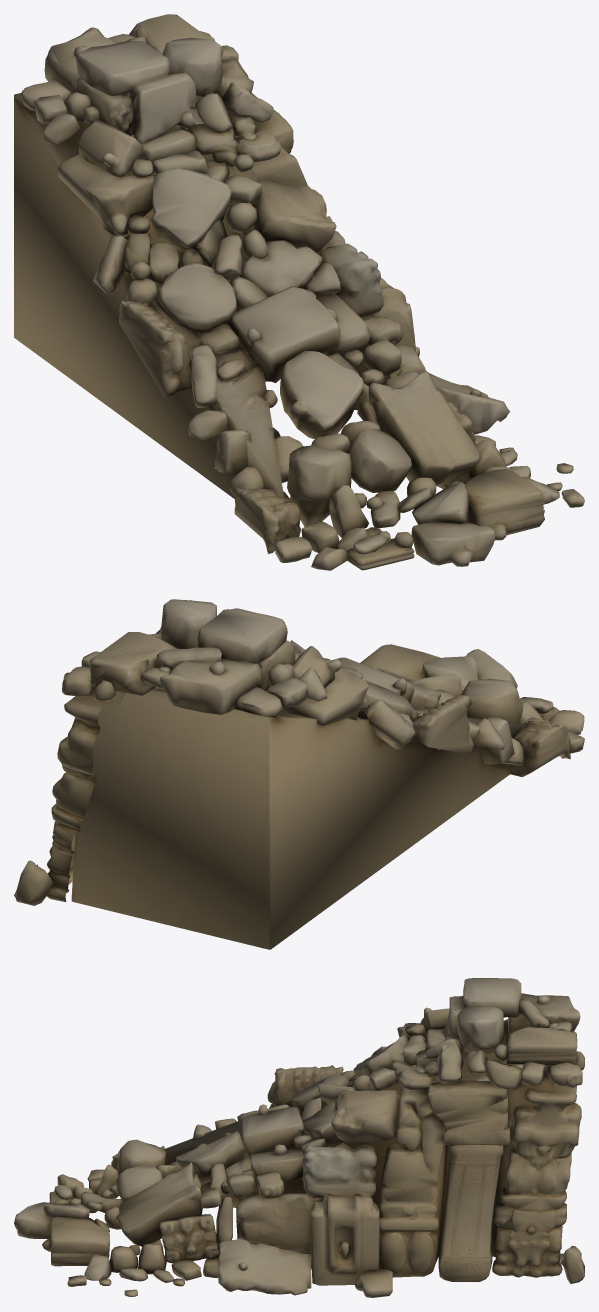
Rendered from fin_rockfall_rubble_slope_LOD0.glb.
3 renders of one model, top to bottom at view 1: azimuth 30°, elevation 25°; view 2: azimuth 150°, elevation 25°; view 3: azimuth 270°, elevation 25°, orthographic. The views are drawn at different scales.
Parts seen in each view (by area): view 1: tripo_node_8024f827-60a6-4286-b321-2efb5a994bcf; view 2: tripo_node_8024f827-60a6-4286-b321-2efb5a994bcf; view 3: tripo_node_8024f827-60a6-4286-b321-2efb5a994bcf.
Boxes of the visible parts, x1,y1,x2,y2 form: tripo_node_8024f827-60a6-4286-b321-2efb5a994bcf: (14,14,584,570); tripo_node_8024f827-60a6-4286-b321-2efb5a994bcf: (14,599,584,949); tripo_node_8024f827-60a6-4286-b321-2efb5a994bcf: (14,978,584,1297).
Bounding box in the file's own units: 0.498 × 0.4395 × 0.998.
1 material, 1 textured.
